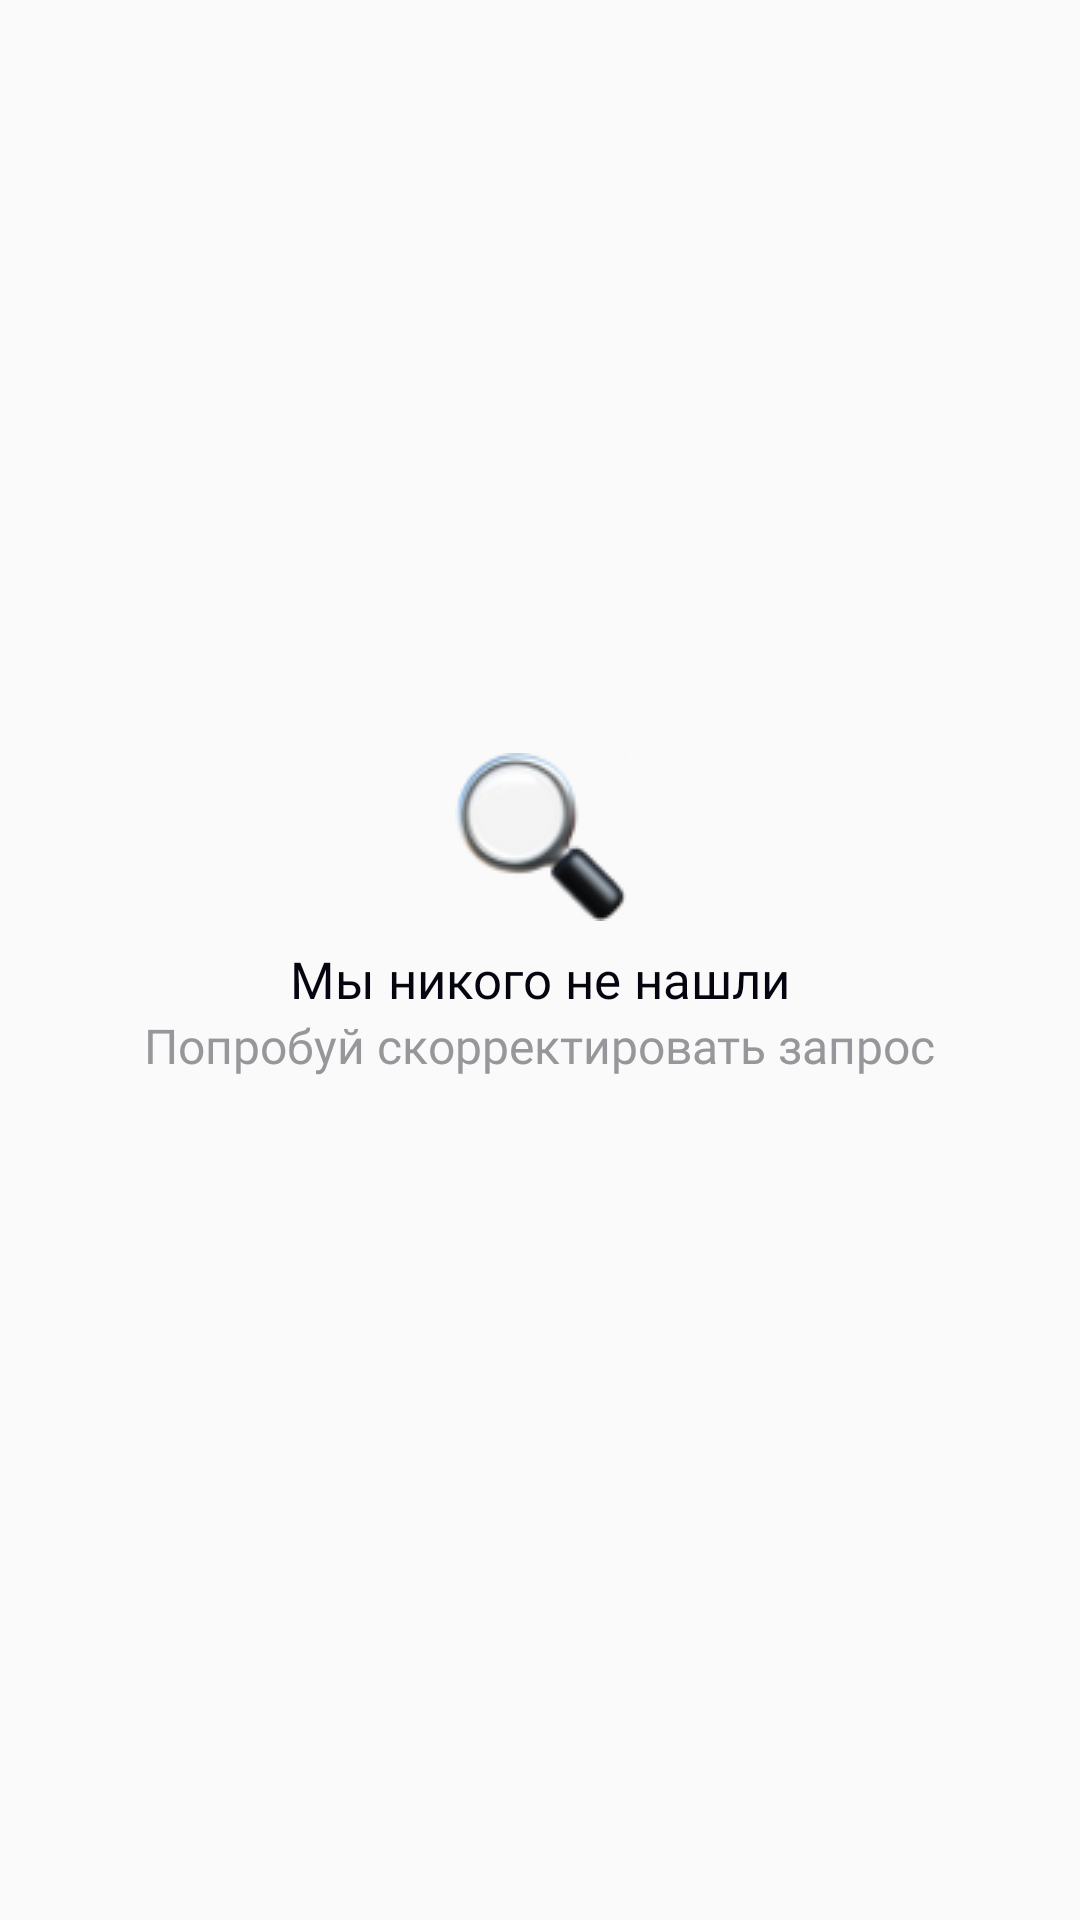

Screen size 1080px x 1920px. Icon name, then its box in pixels as (x1, y1, x2, y2):
Картинка поиск: (457, 753, 626, 921)
